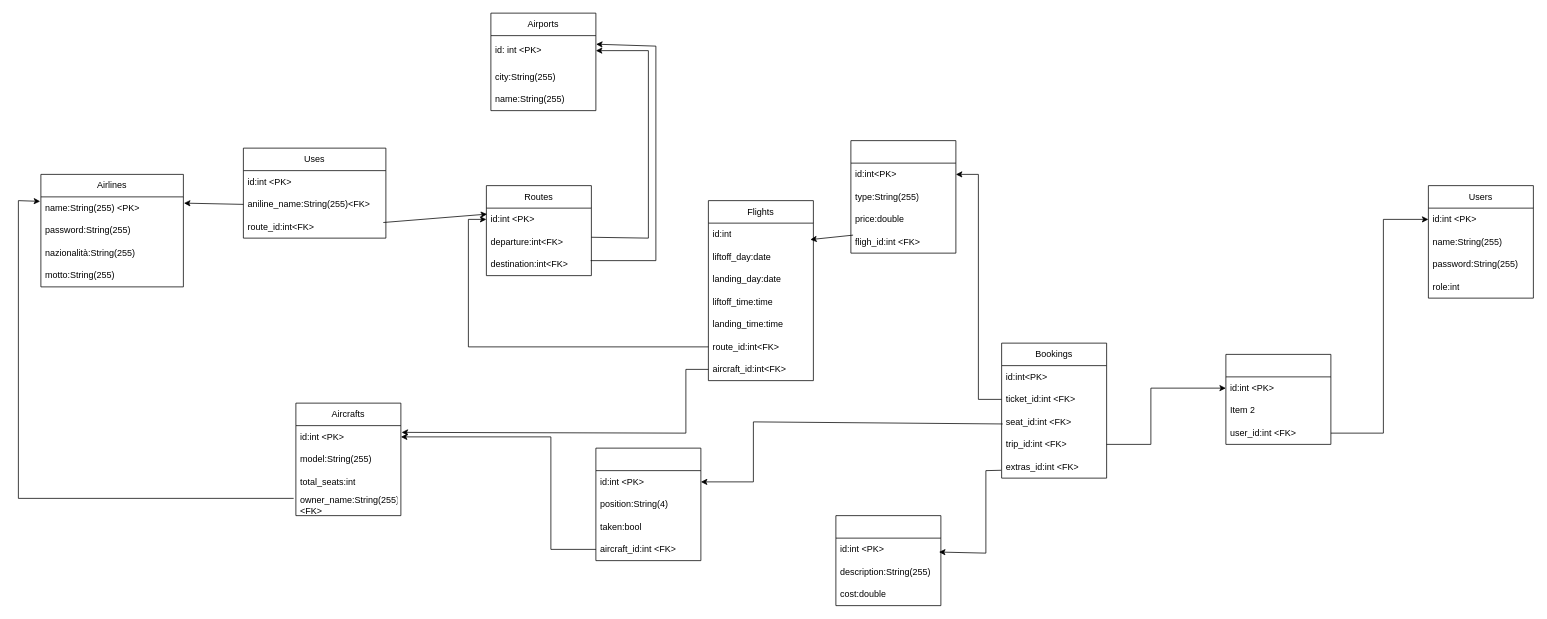
This 1547x619 diagram has some shape labels left out. Each missing label, with the box of its shape:
Extras: (835, 515, 941, 606)
Seats: (595, 447, 701, 561)
Tickets: (850, 140, 956, 253)
Trips: (1225, 354, 1331, 444)
